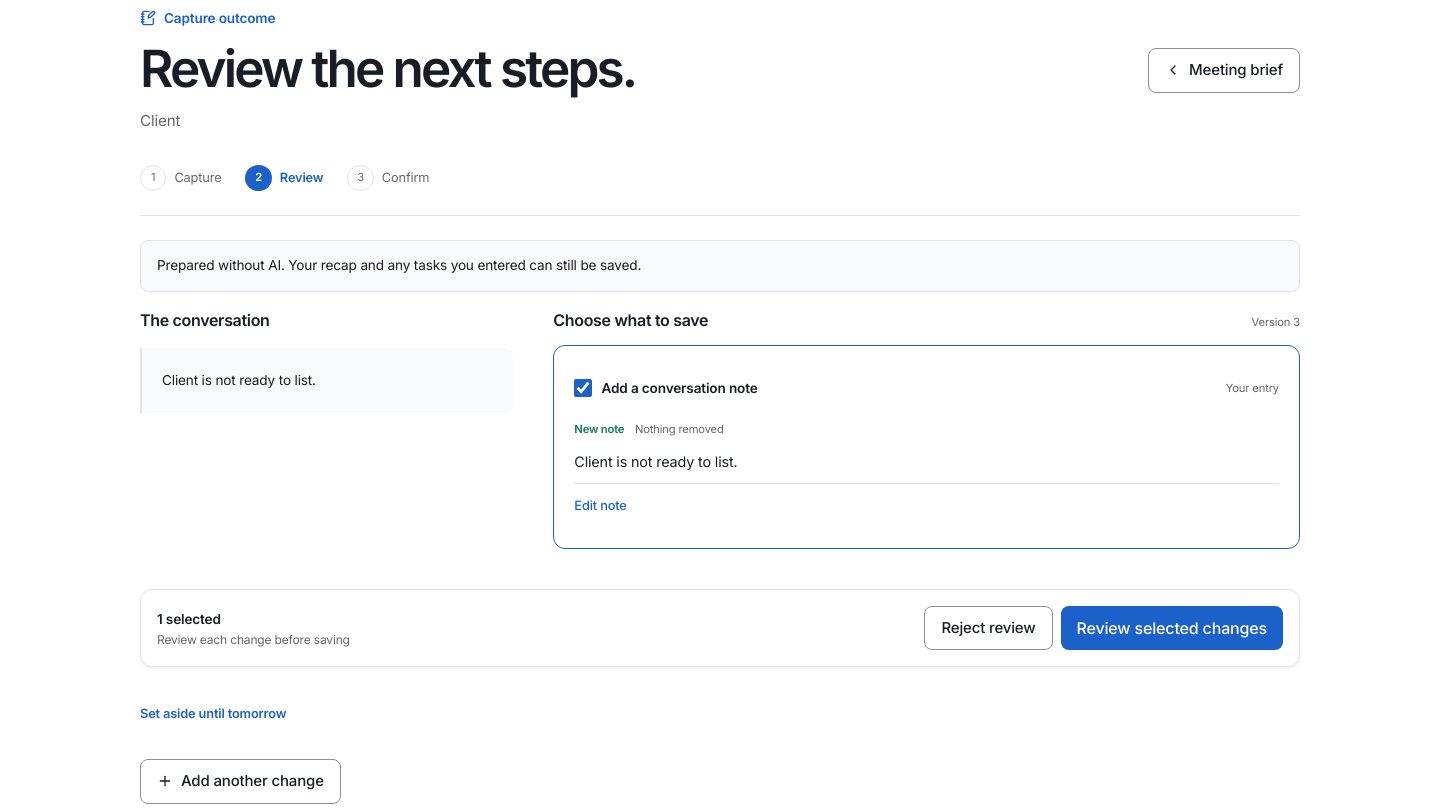
Scenario: Capture outcome review › keeps a failed request reviewable and announces its error
The width and height of the screenshot is (1440, 810).
Click the checkbox at (583, 388), box [574,379,592,397]
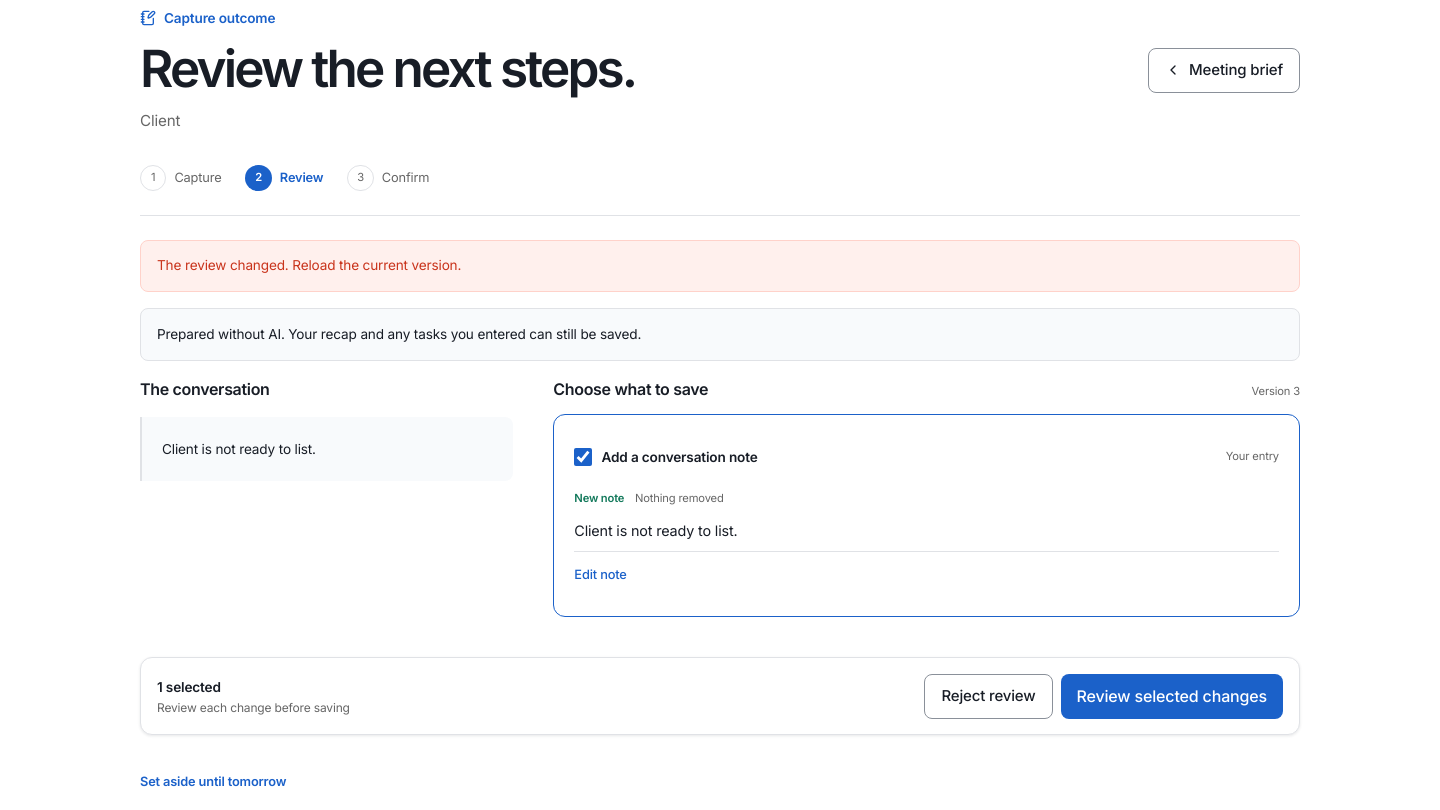
Expected: the checkbox is checked, [574,448,592,466]
Expected: the message "The review changed. Reload the current version." is shown, [140,240,1300,292]
